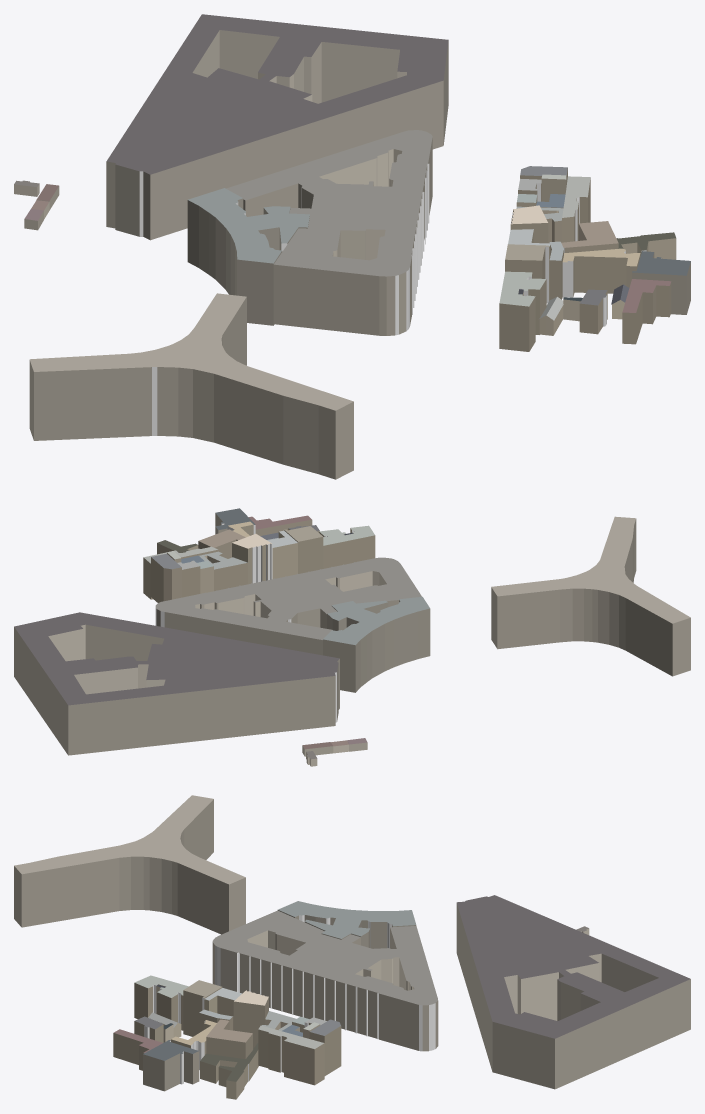
3 renders of one model, top to bottom at view 1: azimuth 30°, elevation 25°; view 2: azimuth 150°, elevation 25°; view 3: azimuth 270°, elevation 25°, orthographic. The views are drawn at different scales.
Visible parts, largest first — view 1: tuile; view 2: tuile; view 3: tuile.
Boxes of the visible parts, x1,y1,x2,y2 form: tuile: (14, 14, 690, 479); tuile: (14, 508, 690, 766); tuile: (14, 795, 690, 1099).
Bounding box in the file's own units: 341 × 35.59 × 386.
